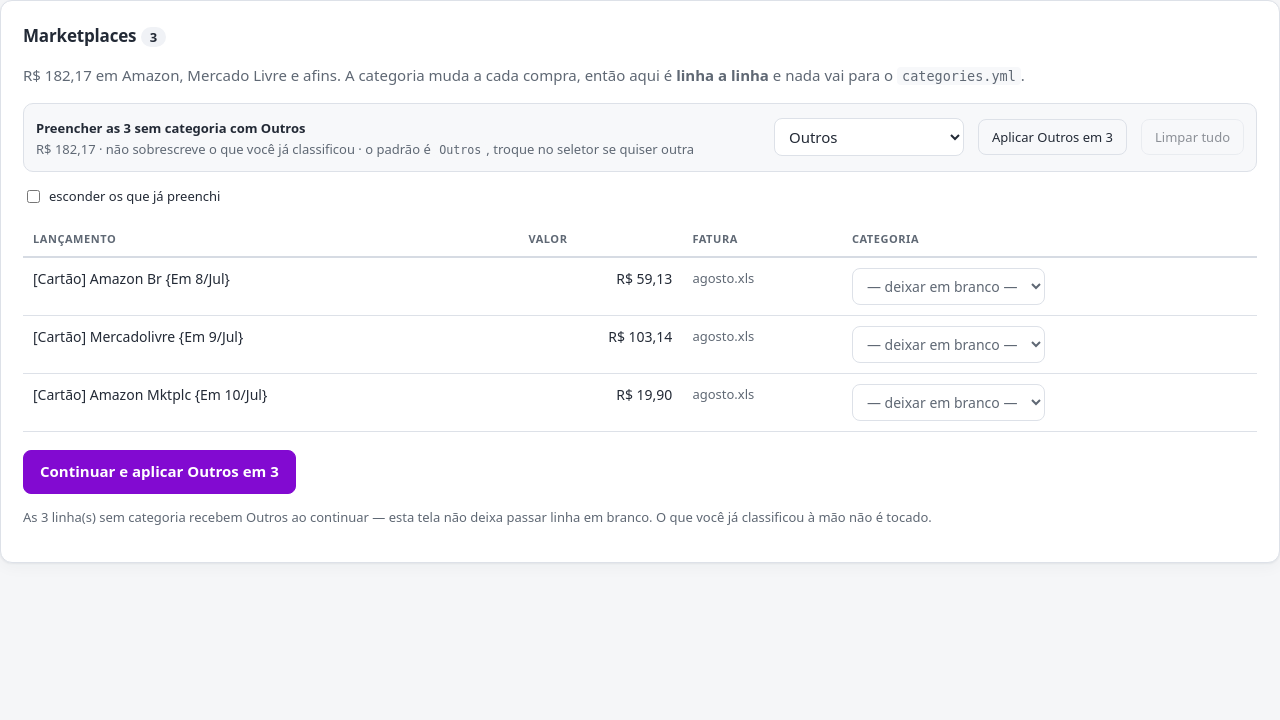
Test: MarketplaceStep › sem categoria escolhida, continuar fica travado
Select "— escolher —" in the dropdown next to ", troque no seletor se quiser outra": (869, 137) [774, 118, 964, 156]
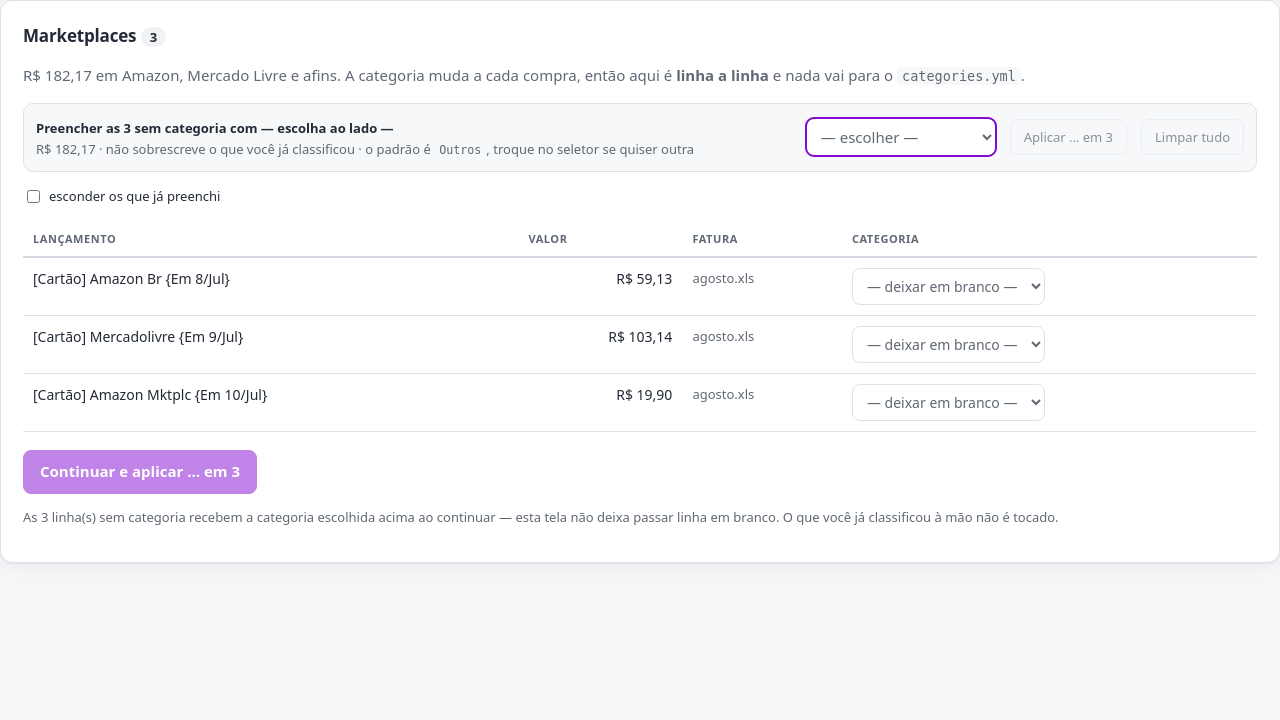
Now the button "Continuar e aplicar … em 3" is disabled, box [23, 450, 257, 494]
